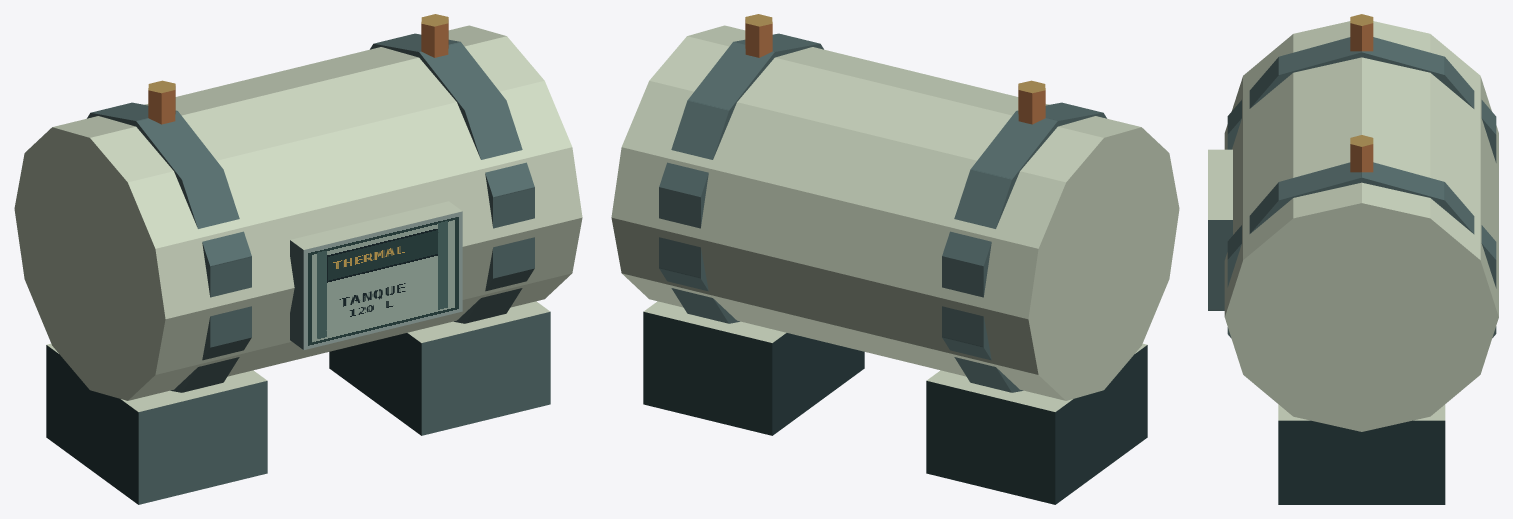
The model's file is calentador_domestico_horizontal.glb.
The picture shows the model from 3 angles, left to right: view 1: azimuth 30°, elevation 25°; view 2: azimuth 150°, elevation 25°; view 3: azimuth 270°, elevation 25°; orthographic projection. The views are drawn at different scales.
Visible parts, largest first — view 1: CALDERA_PROPS; view 2: CALDERA_PROPS; view 3: CALDERA_PROPS.
Part boxes in pixels (left/top/right/bottom): CALDERA_PROPS: left=14, top=14, right=582, bottom=504; CALDERA_PROPS: left=611, top=14, right=1179, bottom=504; CALDERA_PROPS: left=1208, top=14, right=1498, bottom=504.
Size of the model in its own units: 0.8961 by 0.7544 by 0.5966.
Materials: 1 (1 with a texture image).
